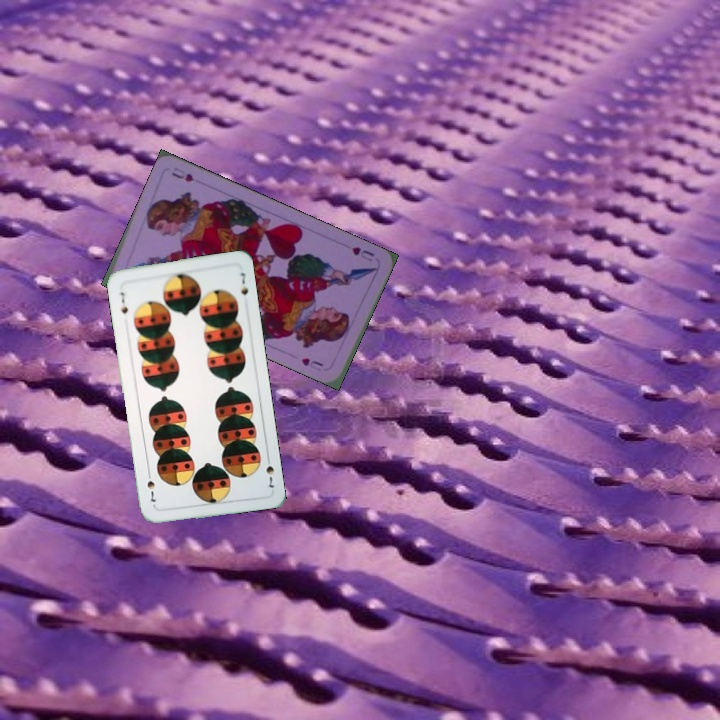HU: (348, 243, 377, 264)
S7: (262, 451, 277, 491), (116, 288, 130, 319)
